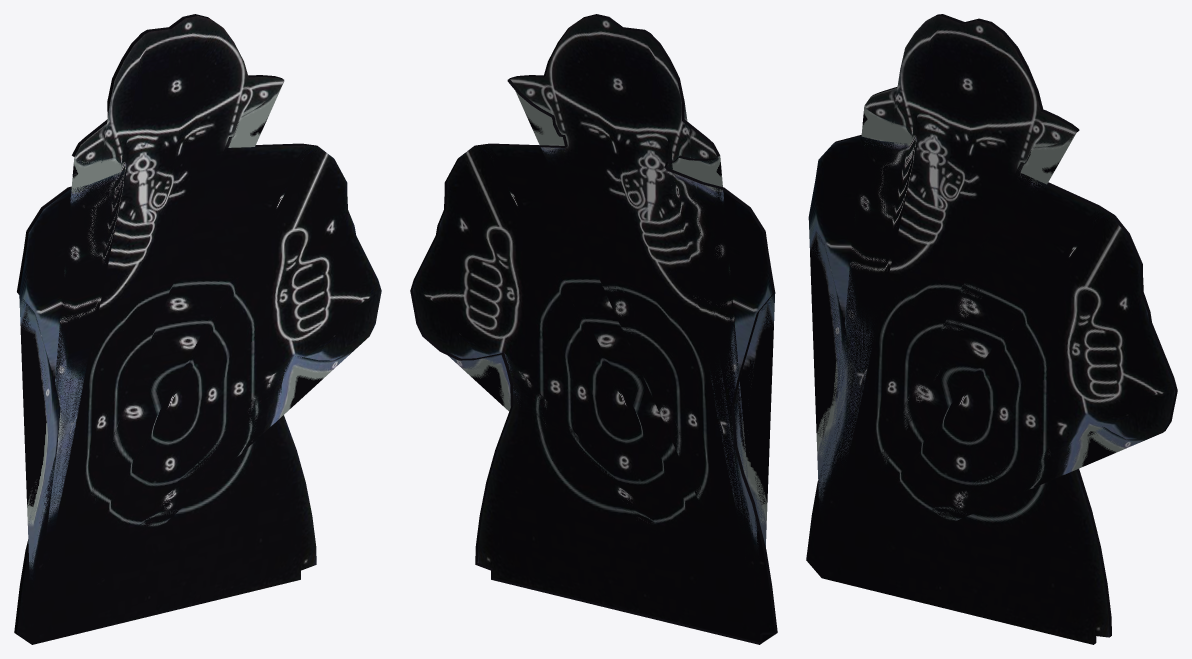
Rendered from target P.fbx.
3 renders of one model, left to right at view 1: azimuth 30°, elevation 25°; view 2: azimuth 150°, elevation 25°; view 3: azimuth 330°, elevation 25°, orthographic.
Parts seen in each view (by area): view 1: Cube; view 2: Cube; view 3: Cube.
Boxes of the visible parts, box(x1,y1,x2,y2) form: Cube: box(14, 14, 381, 644); Cube: box(410, 14, 777, 644); Cube: box(806, 14, 1177, 644).
Size of the model in its own units: 682 by 1052 by 8.26.
Materials: 1 (1 with a texture image).
